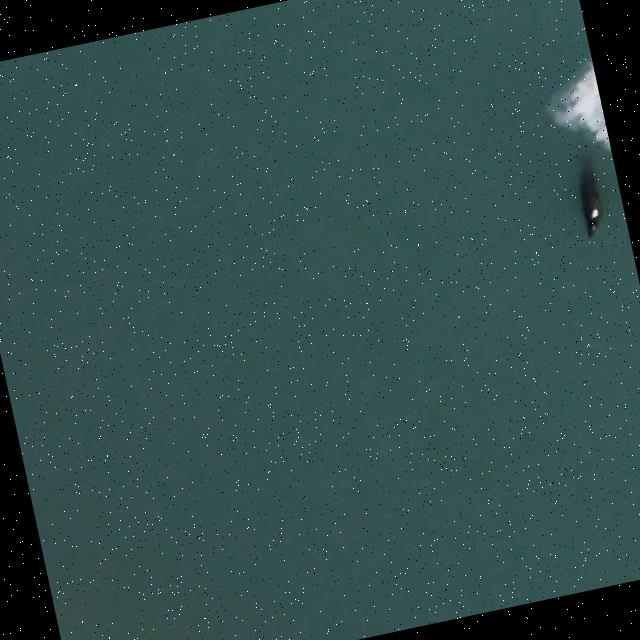seal: (572, 152, 607, 236)
